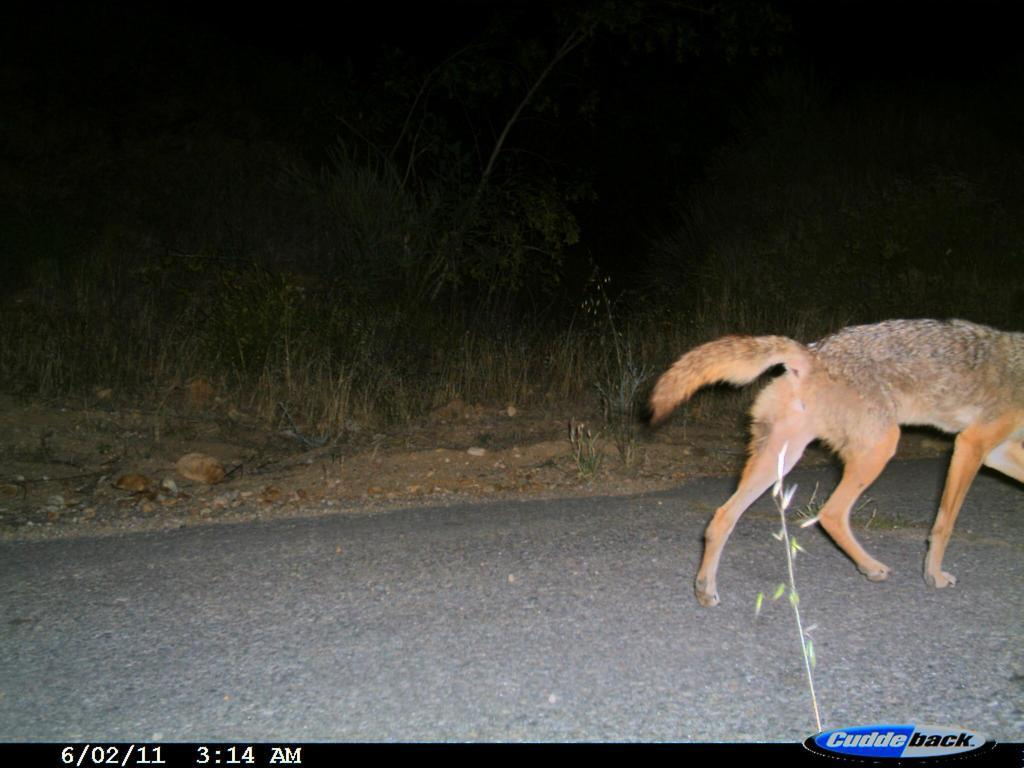coyote: (624, 308, 1023, 626)
